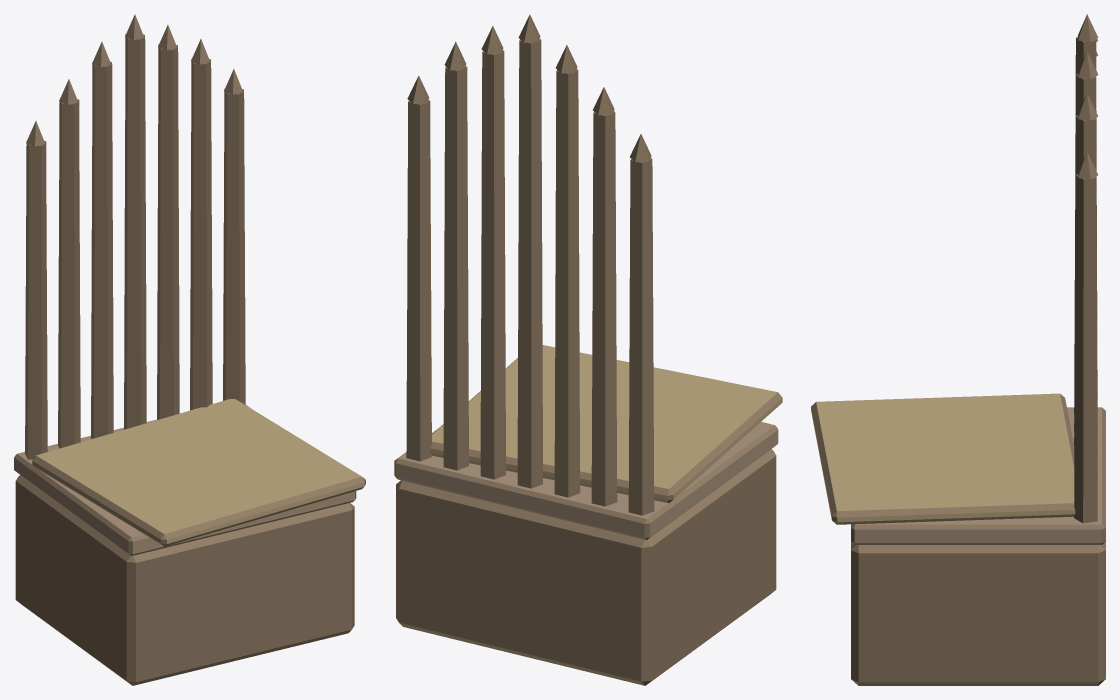
Rendered from throne_3.glb.
The picture shows the model from 3 angles, left to right: view 1: azimuth 30°, elevation 25°; view 2: azimuth 150°, elevation 25°; view 3: azimuth 270°, elevation 25°; orthographic projection. The views are drawn at different scales.
Parts seen in each view (by area): view 1: Throne_3; view 2: Throne_3; view 3: Throne_3.
Part boxes in pixels (x1,y1,x2,y2): Throne_3: [14, 14, 365, 685]; Throne_3: [394, 14, 782, 685]; Throne_3: [811, 14, 1105, 685].
Bounding box in the file's own units: 0.7699 × 1.81 × 0.7866.
